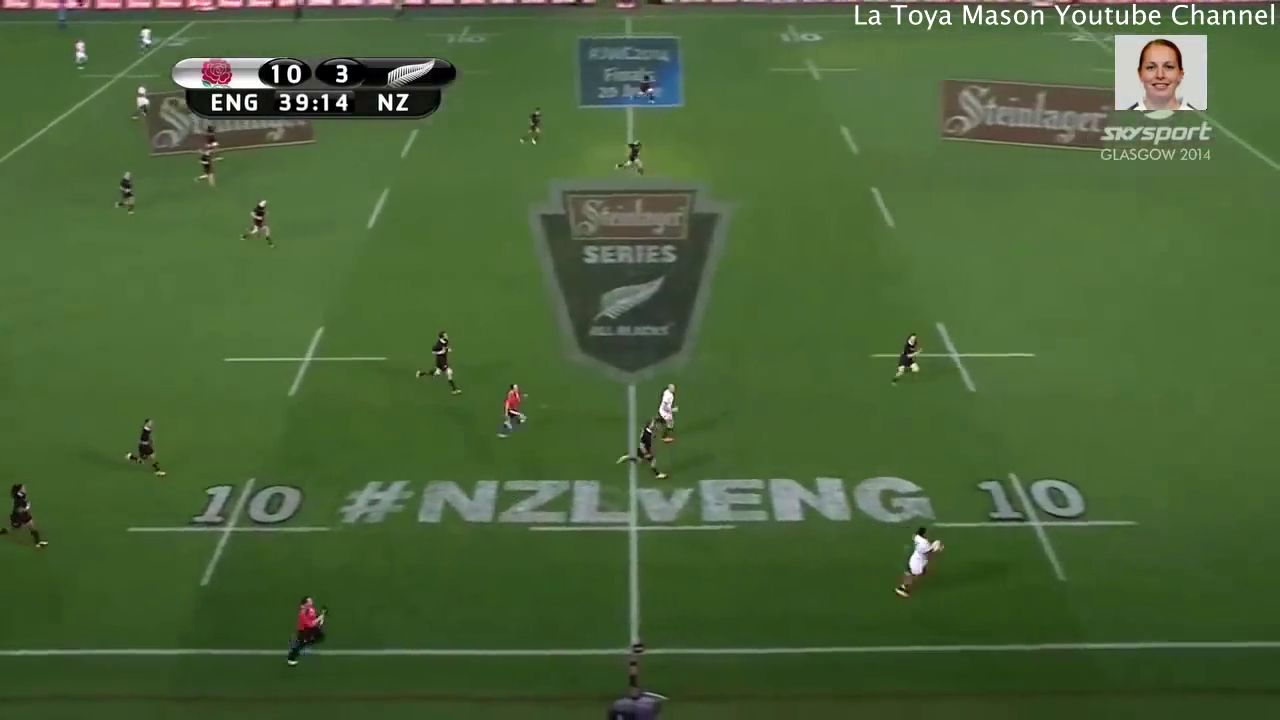10_metre: (923, 463, 1144, 581), (122, 472, 339, 592), (862, 310, 1048, 400), (220, 321, 391, 400), (757, 52, 871, 87), (730, 20, 865, 46), (423, 23, 508, 47)
ball: (929, 530, 948, 558)
player: (884, 512, 952, 608), (1, 478, 62, 552), (611, 416, 669, 485), (413, 328, 465, 402), (123, 410, 174, 481), (649, 372, 688, 448), (229, 192, 278, 251), (887, 320, 925, 393), (494, 374, 533, 439), (609, 136, 651, 181), (107, 167, 140, 217), (187, 147, 226, 189), (515, 102, 544, 151), (125, 83, 153, 124), (632, 68, 657, 108), (200, 118, 224, 153), (72, 37, 90, 73), (136, 24, 154, 58)
